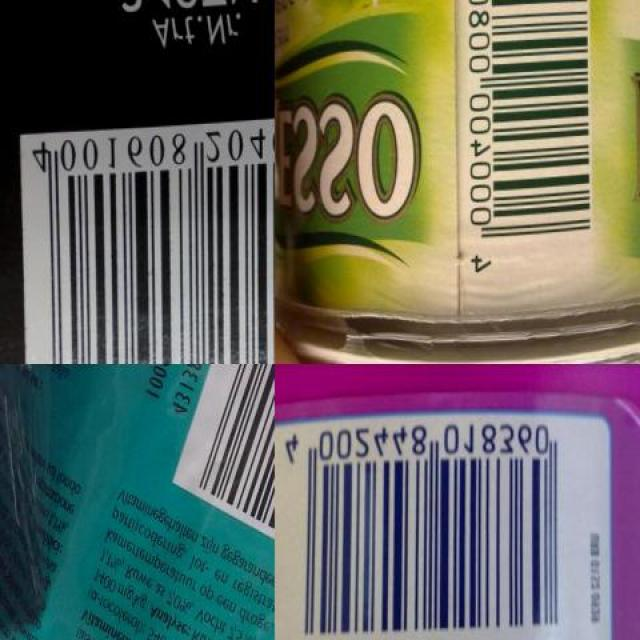Barcode: (275, 416, 573, 640), (18, 115, 274, 364), (458, 0, 590, 313), (170, 364, 274, 625)
